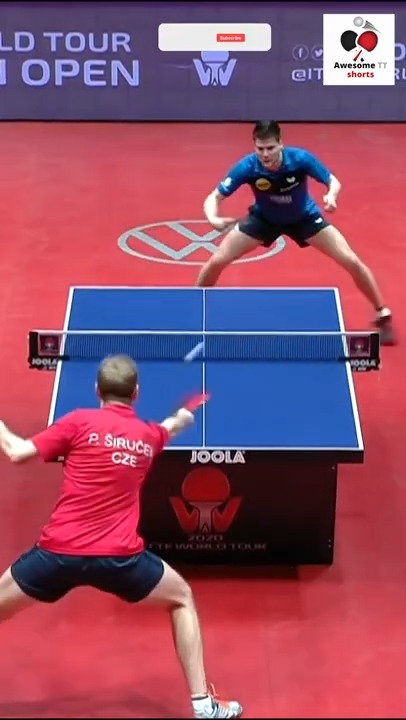Ball: (183, 340, 204, 363)
